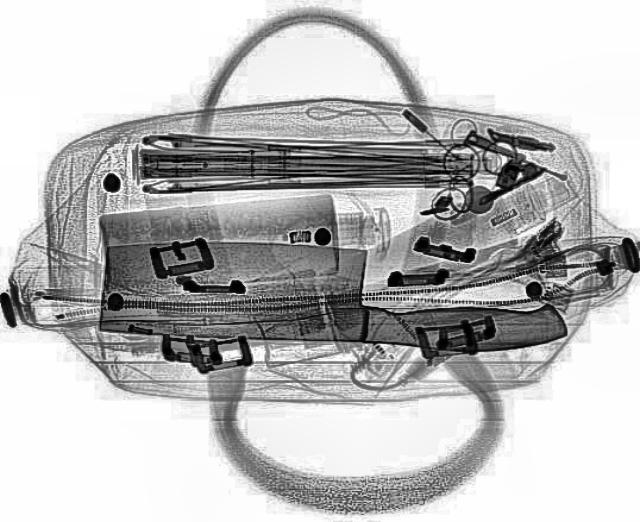Knife: (97, 234, 571, 356)
